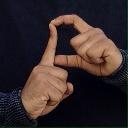hand: (20, 20, 73, 119), (51, 13, 123, 77)
